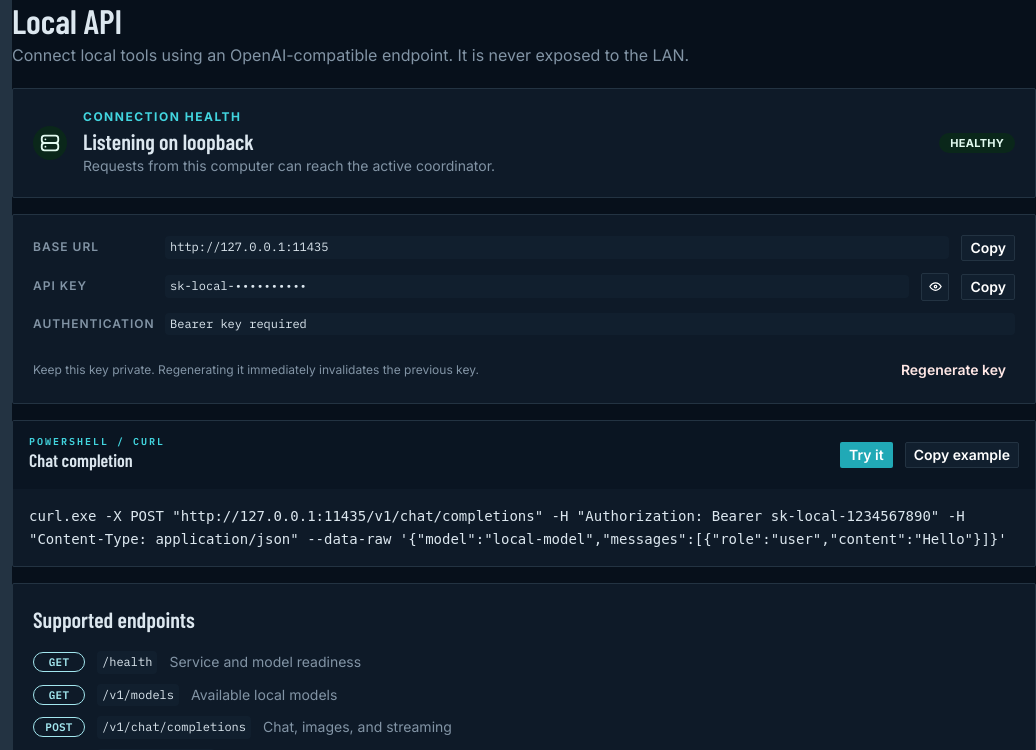
Test: interactive pages › runs the example request and renders the live response
This screenshot has width=1036, height=750.
Expected: the heading "Listening on loopback" is shown, [83, 128, 254, 154]
Click the button "Try it" at x=866, y=455, box [840, 442, 893, 468]
(page scrolled)
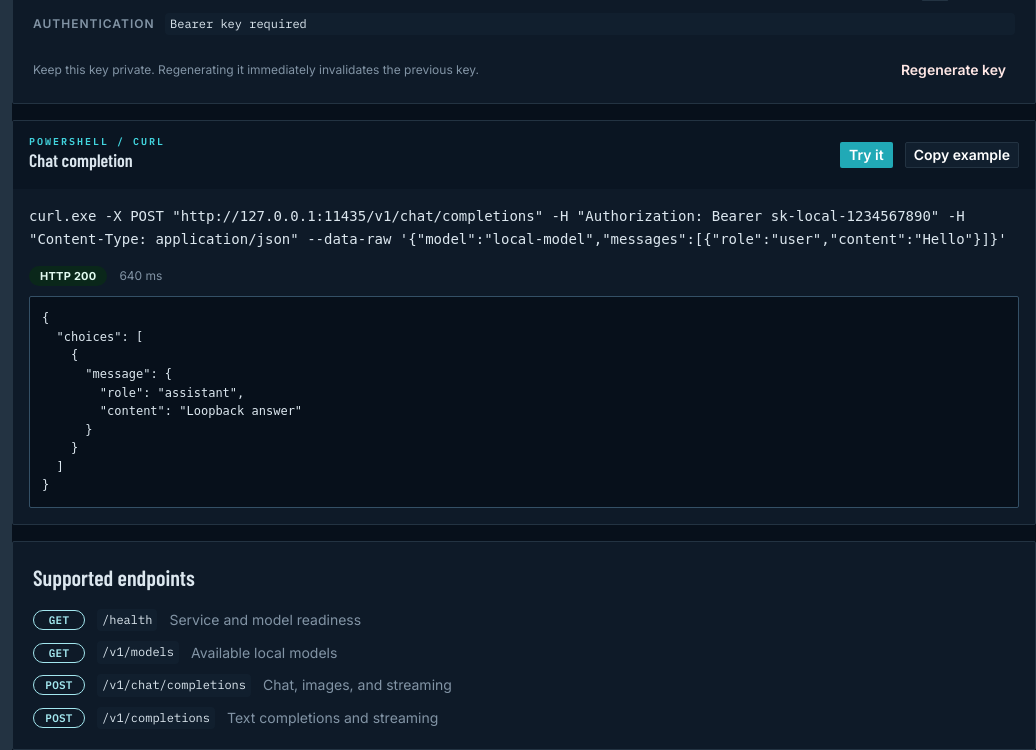
Expected: the element named "example response" shows "HTTP 200", [13, 266, 1035, 524]
Expected: the element named "example response" shows "640 ms", [13, 266, 1035, 524]
Expected: the element named "example response" shows "Loopback answer", [42, 311, 302, 492]
